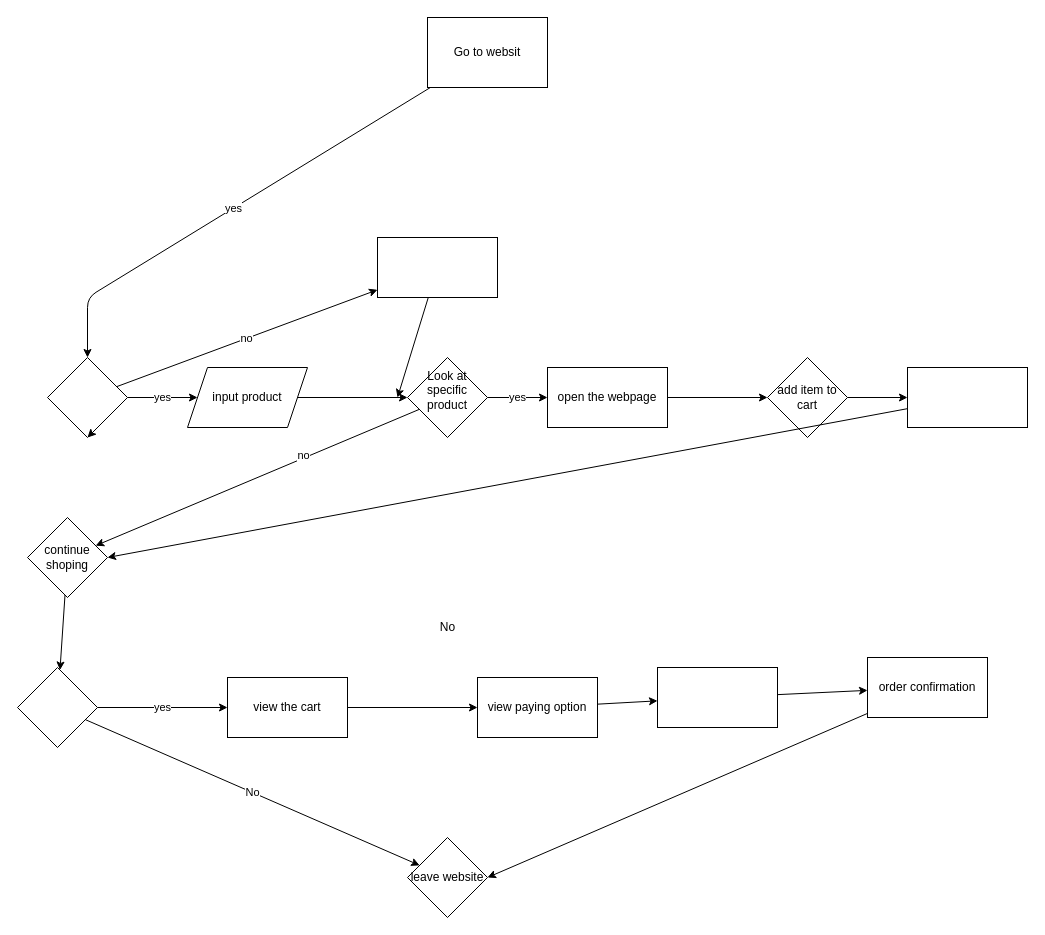
This 1045x935 diagram has some shape labels left out. The shapes that lost their labels are listed below. From the top down, each one's centre as x and y in pixels, then its label:
At pixel 437 267: "Explore products in webpage".
At pixel 87 397: "Search for product".
At pixel 967 397: "add cart confirmation".
At pixel 57 707: "checkout".
At pixel 717 697: "payment information".
